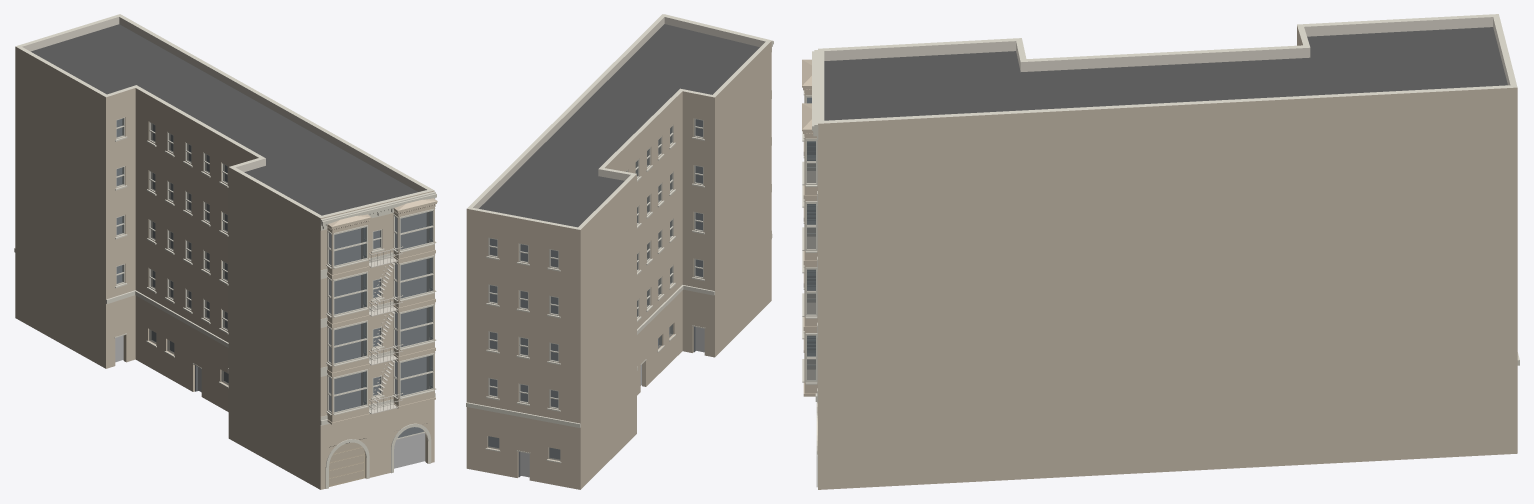
Rendered from exterior.glb.
3 views of the same model, side by side, from view 1: azimuth 30°, elevation 25°; view 2: azimuth 150°, elevation 25°; view 3: azimuth 270°, elevation 25° (orthographic). The views are drawn at different scales.
Parts seen in each view (by area): view 1: shell, roof, bay-glazing-hyb, shadow-proxy, bay-windows-hyb, glazing, trim, frames, fire-escape, storefront, hyC-arches-0, relief-0; view 2: shell, roof, glazing, shadow-proxy, frames, trim; view 3: shell, roof, bay-glazing-hyb, bay-windows-hyb.
Boxes of the visible parts, x1,y1,x2,y2 form: shell: (15,14,434,489); roof: (31,24,417,215); bay-glazing-hyb: (326,208,436,415); shadow-proxy: (115,119,426,468); bay-windows-hyb: (327,198,437,424); glazing: (116,118,424,437); trim: (14,136,436,425); frames: (116,117,382,397); fire-escape: (369,245,403,414); storefront: (114,333,424,486); hyC-arches-0: (325,423,431,488); relief-0: (320,253,393,425); shell: (466,14,771,489); roof: (479,24,759,227); glazing: (487,119,702,460); shadow-proxy: (489,119,704,477); frames: (488,118,703,409); trim: (466,14,773,463); shell: (818,14,1517,489); roof: (824,27,1507,120); bay-glazing-hyb: (802,90,817,384); bay-windows-hyb: (802,59,817,396).
Bounding box in the file's own units: 13.72 × 21.31 × 37.86.
